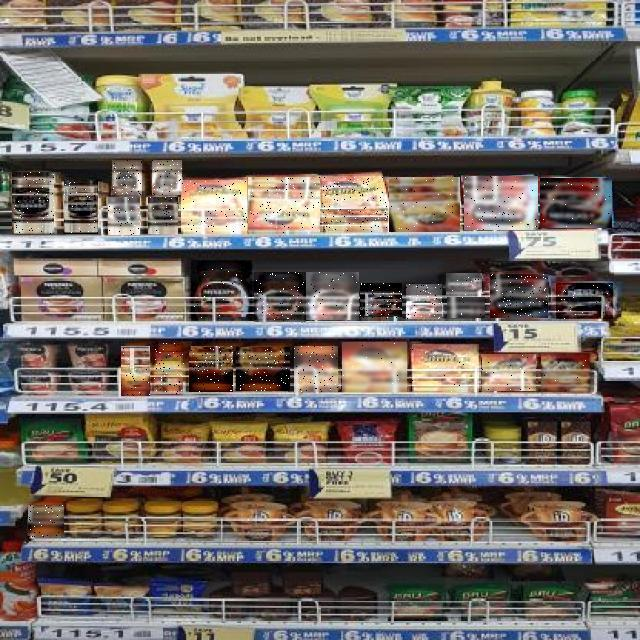Coffee: (249, 178, 321, 234), (464, 176, 538, 230), (389, 177, 460, 232), (322, 176, 389, 232), (191, 260, 252, 320), (540, 178, 612, 228), (181, 180, 247, 234), (342, 342, 407, 392), (412, 345, 479, 393), (12, 172, 54, 234), (254, 272, 306, 322), (490, 274, 548, 318), (306, 272, 359, 320), (236, 347, 290, 391), (556, 283, 613, 319), (542, 353, 594, 392), (189, 346, 233, 392), (294, 346, 338, 392), (482, 354, 536, 391), (64, 181, 98, 235), (154, 343, 184, 394), (361, 284, 403, 320), (121, 346, 150, 396), (406, 284, 442, 319), (108, 197, 140, 235), (28, 506, 64, 538), (148, 197, 178, 234), (112, 160, 142, 195), (152, 160, 182, 195), (447, 297, 485, 318), (446, 274, 482, 296)
